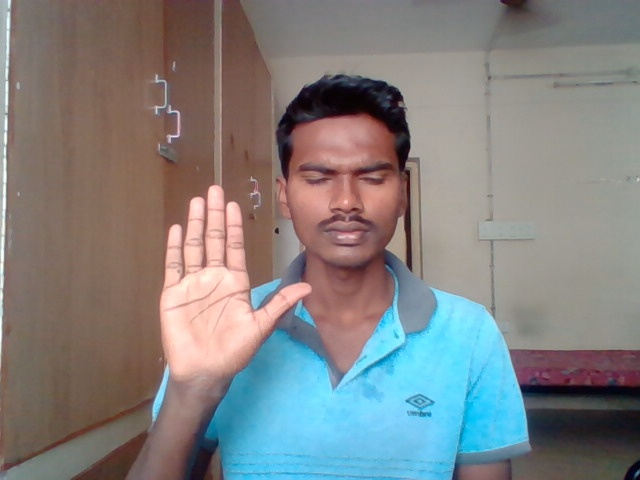Hello: (157, 184, 312, 386)
